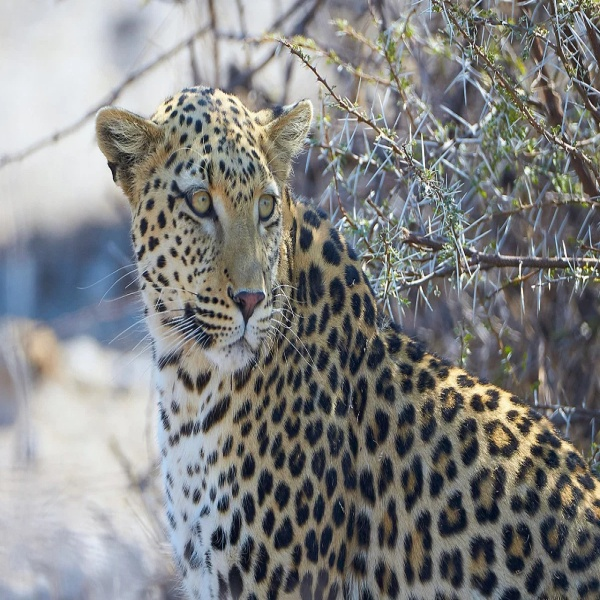Leopard: (89, 77, 600, 599)
